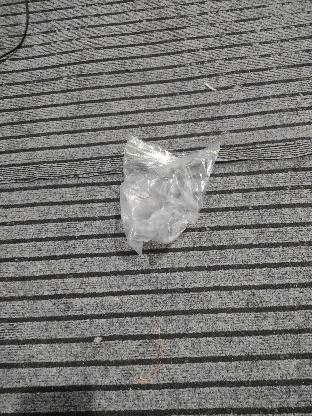Plastic Bag: (120, 136, 219, 254)
